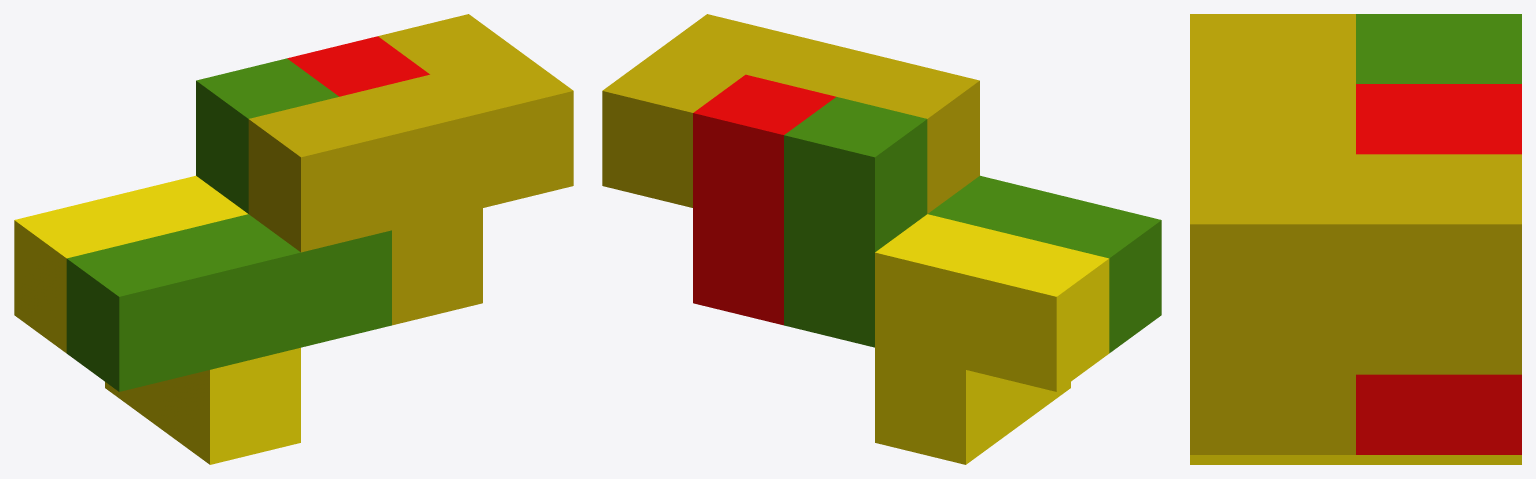
3 renders of one model, left to right at view 1: azimuth 30°, elevation 25°; view 2: azimuth 150°, elevation 25°; view 3: azimuth 270°, elevation 25°, orthographic. The views are drawn at different scales.
Visible parts, largest first — view 1: mergedBlocks(Clone); view 2: mergedBlocks(Clone); view 3: mergedBlocks(Clone).
Boxes of the visible parts, left/top/right/bottom form: mergedBlocks(Clone): left=14, top=14, right=573, bottom=464; mergedBlocks(Clone): left=602, top=14, right=1161, bottom=464; mergedBlocks(Clone): left=1190, top=14, right=1521, bottom=464.
Bounding box in the file's own units: 5 × 3 × 2.
Materials: 4 (4 with a texture image).
